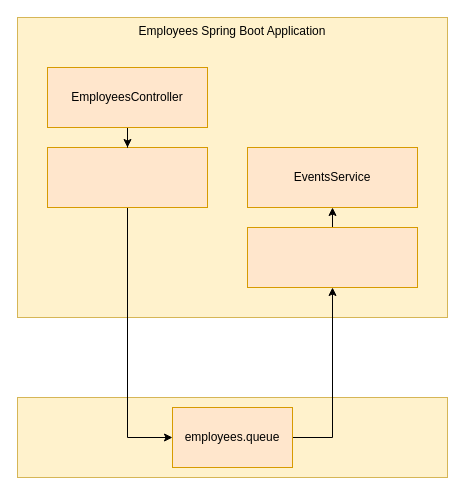
Image size: 465x495. Some labels were removed from this diagram. The centre of each missing label's shape, as x and y in pixels:
"EmployeesQueueListener" belongs at (x=332, y=257).
"EmployeesService" belongs at (x=127, y=177).
